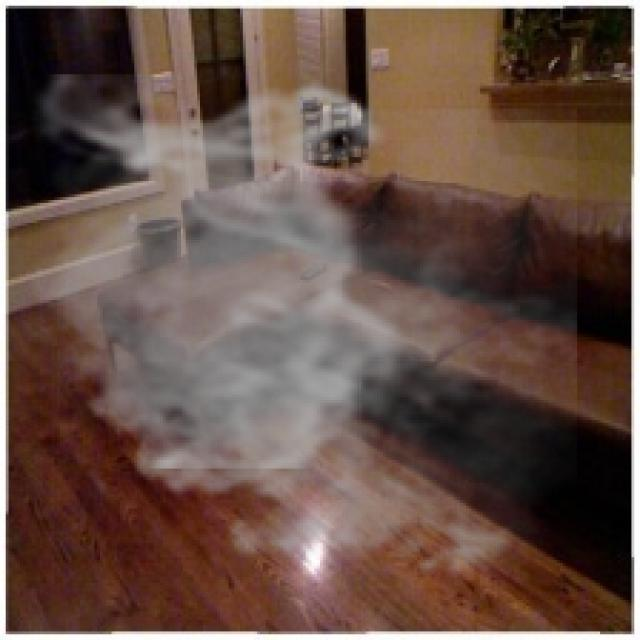Smoke: (9, 74, 578, 592)
